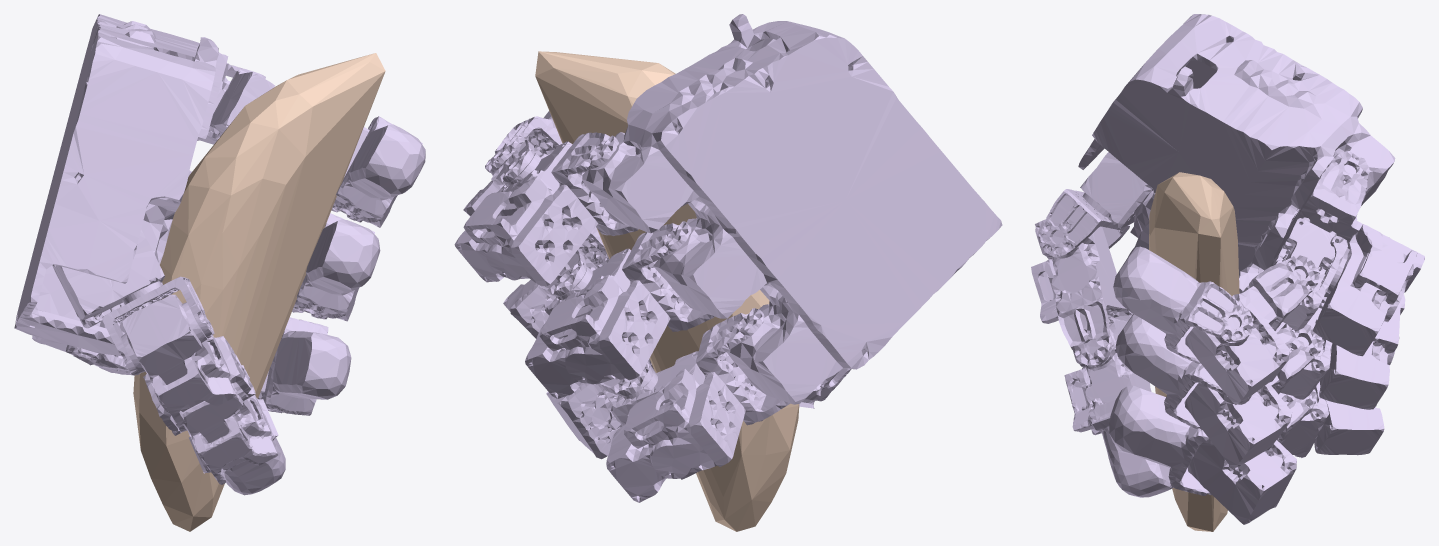
The model's file is 30641f2adfd235-closed.glb.
3 views of the same model, side by side, from view 1: azimuth 30°, elevation 25°; view 2: azimuth 150°, elevation 25°; view 3: azimuth 270°, elevation 25° (orthographic). The views are drawn at different scales.
Visible parts, largest first — view 1: LEAP_hand, world; view 2: LEAP_hand, world; view 3: LEAP_hand, world.
Part boxes in pixels (x1,y1,x2,y2): LEAP_hand: [14, 14, 425, 495]; world: [133, 53, 385, 531]; LEAP_hand: [454, 14, 1002, 502]; world: [535, 51, 799, 531]; LEAP_hand: [1031, 14, 1424, 524]; world: [1149, 172, 1239, 531].
Size of the model in its own units: 0.1969 by 0.2116 by 0.158.
